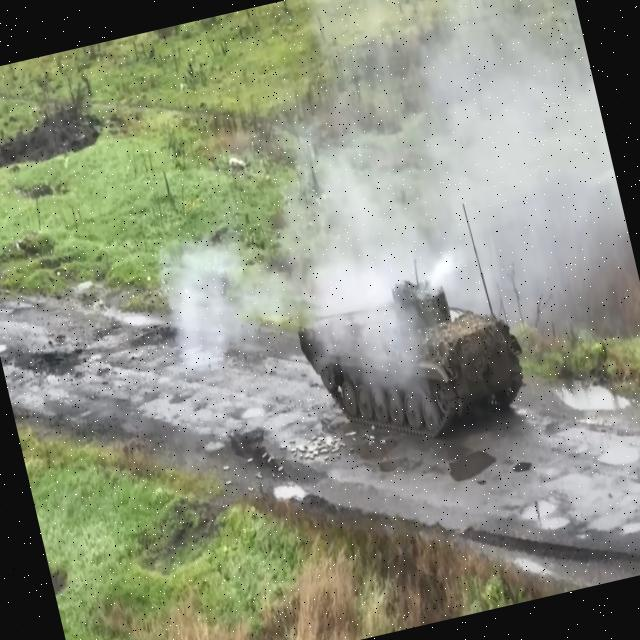AIFV: (290, 257, 542, 470)
